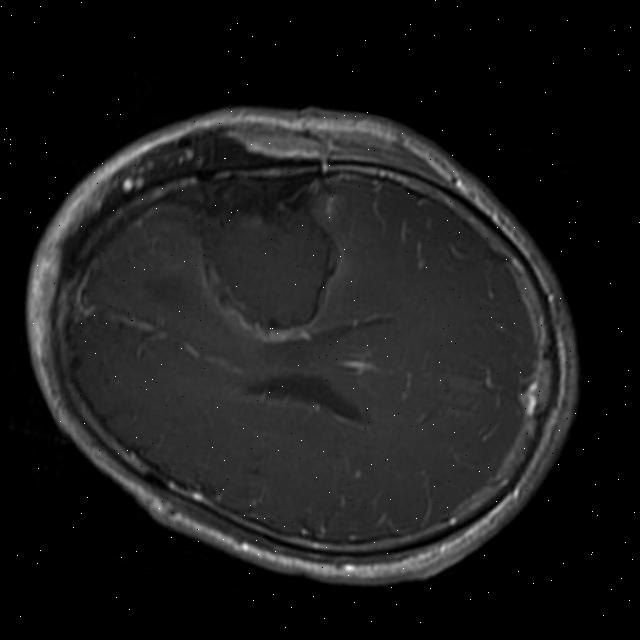Glioma: (176, 166, 350, 346)
